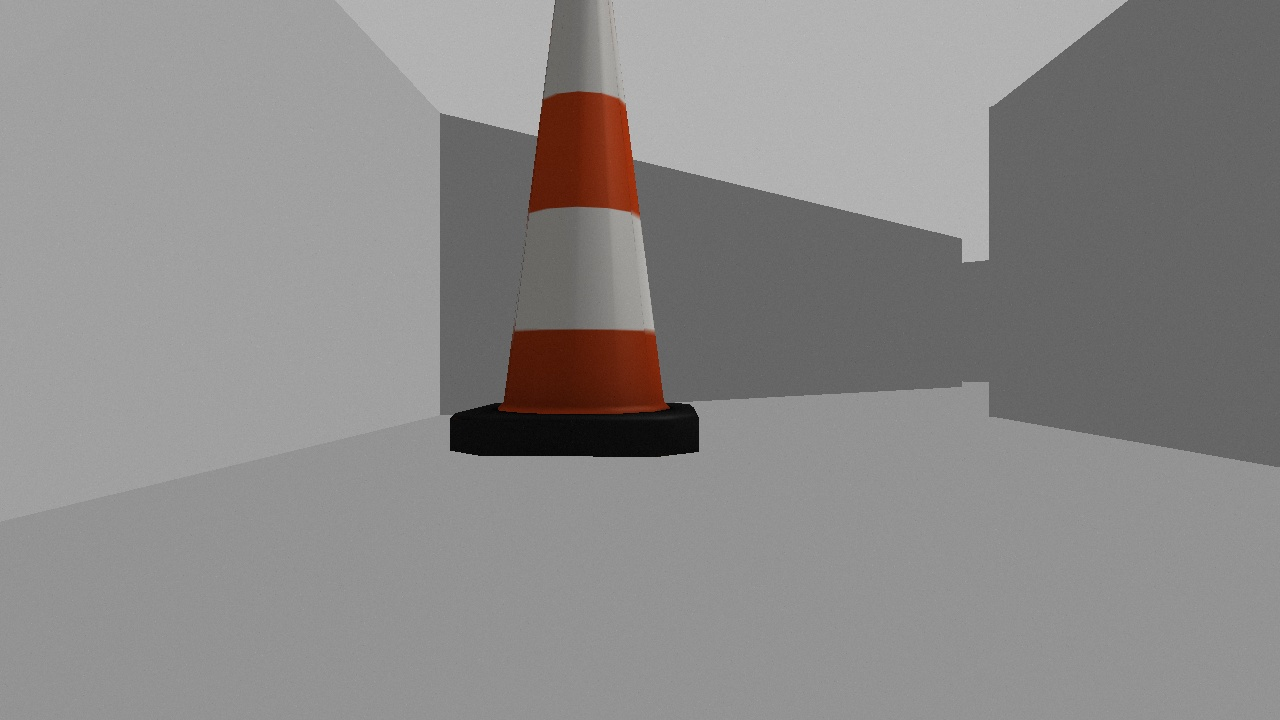barricade: (442, 1, 706, 462)
